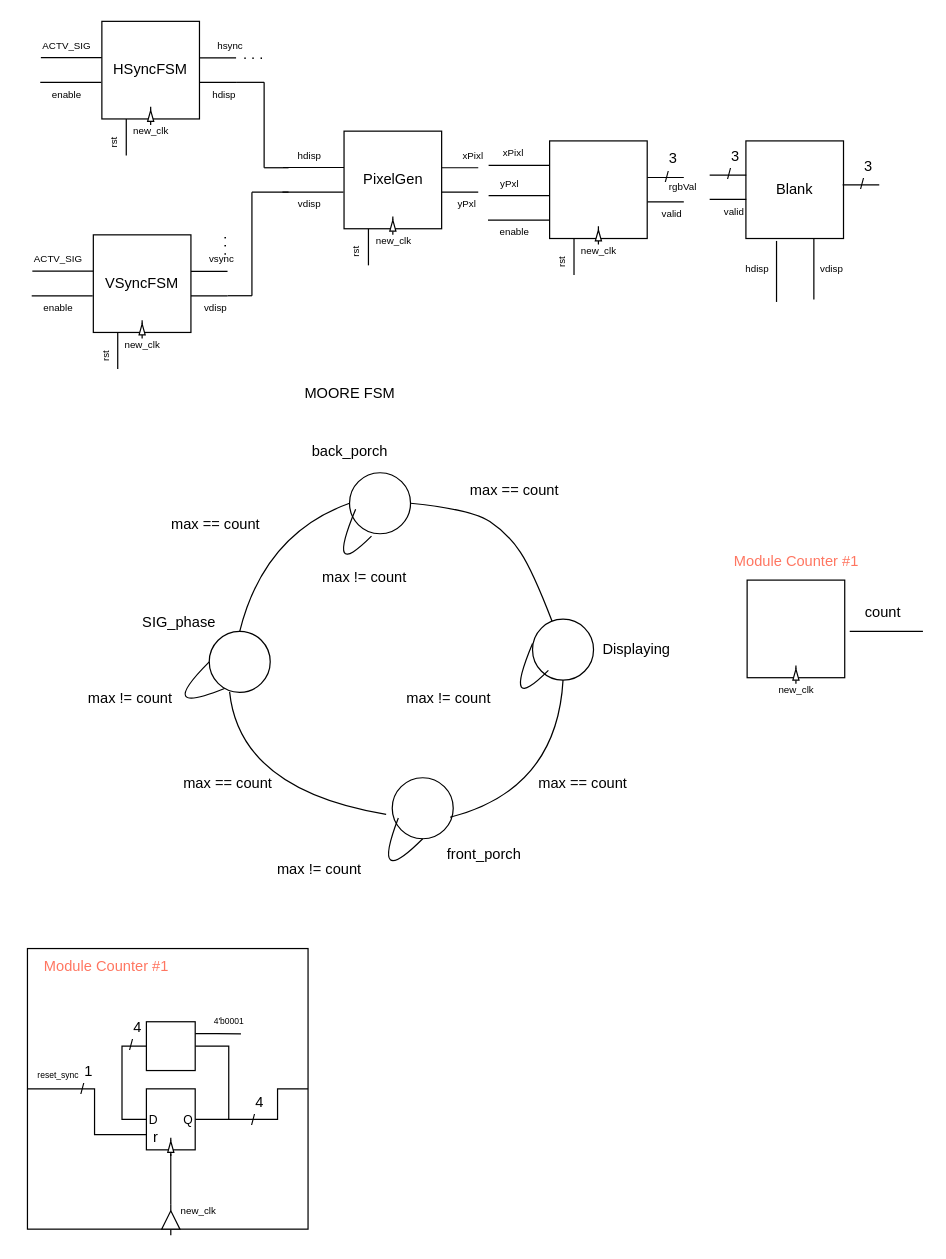
This 946x1259 diagram has some shape labels left out. The centre of each missing label's shape, as x and y in pixels:
"Counter #1" belongs at point (795, 628).
"half adder" belongs at point (170, 1046).
"PAPU" belongs at point (597, 189).
